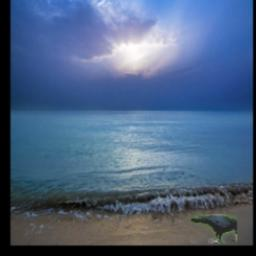Crow: (192, 214, 238, 243)
